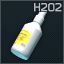Hydrogen peroxide: (0, 0, 64, 64)
